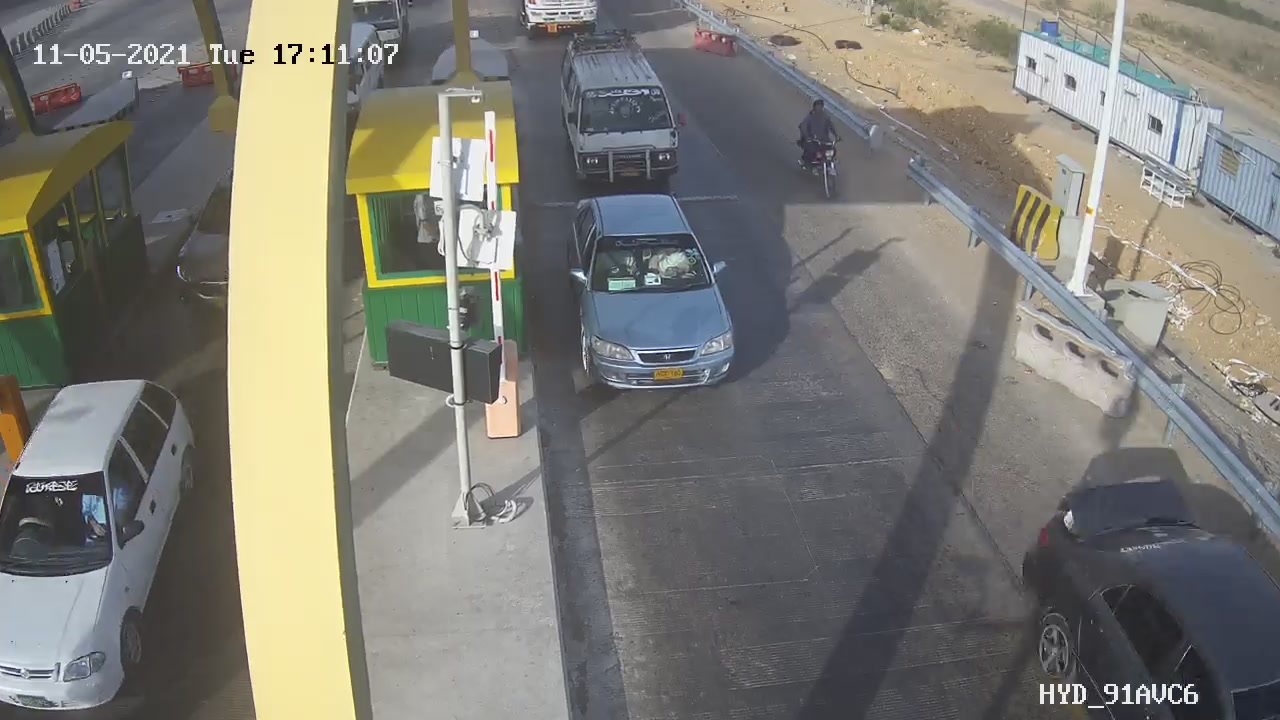F1: (551, 182, 756, 412)
F2: (541, 24, 695, 190)
